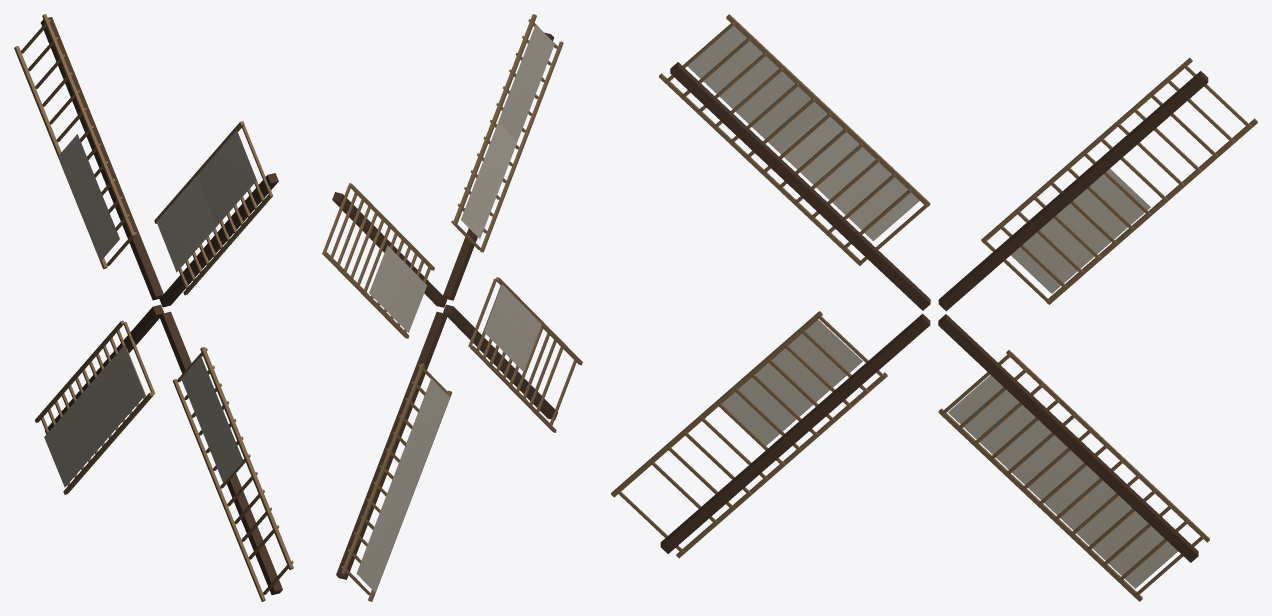
File: mill_sails.glb
The picture shows the model from 3 angles, left to right: view 1: azimuth 30°, elevation 25°; view 2: azimuth 150°, elevation 25°; view 3: azimuth 270°, elevation 25°; orthographic projection. The views are drawn at different scales.
Visible parts, largest first — view 1: isl_mill_sails; view 2: isl_mill_sails; view 3: isl_mill_sails.
Boxes of the visible parts, x1,y1,x2,y2 form: isl_mill_sails: [14, 14, 293, 601]; isl_mill_sails: [322, 14, 582, 601]; isl_mill_sails: [611, 14, 1257, 601].
Size of the model in its own units: 0.3778 by 11.72 by 11.72.
